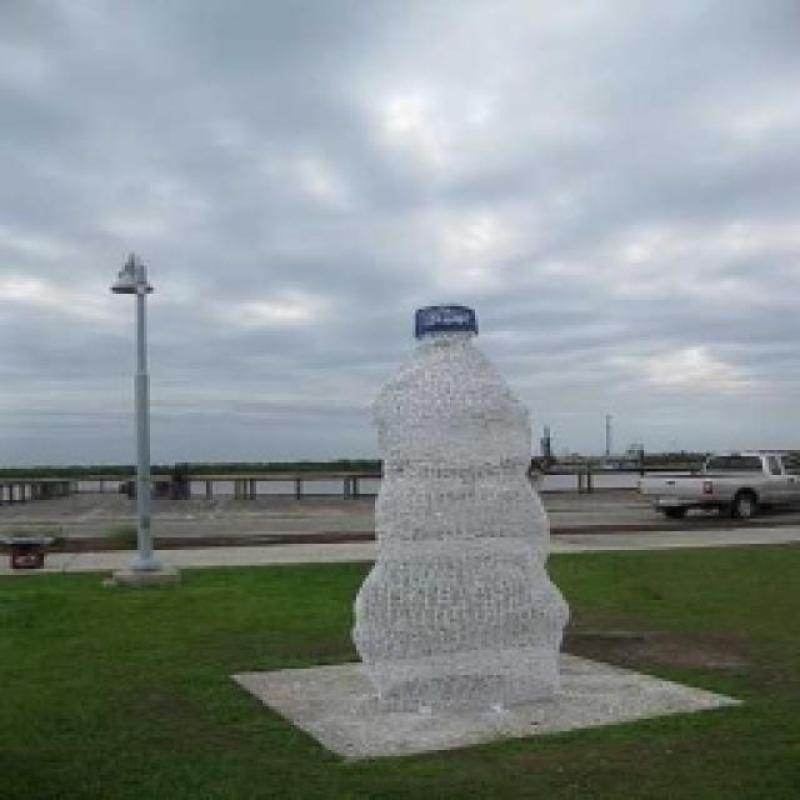botella: (353, 306, 569, 716)
